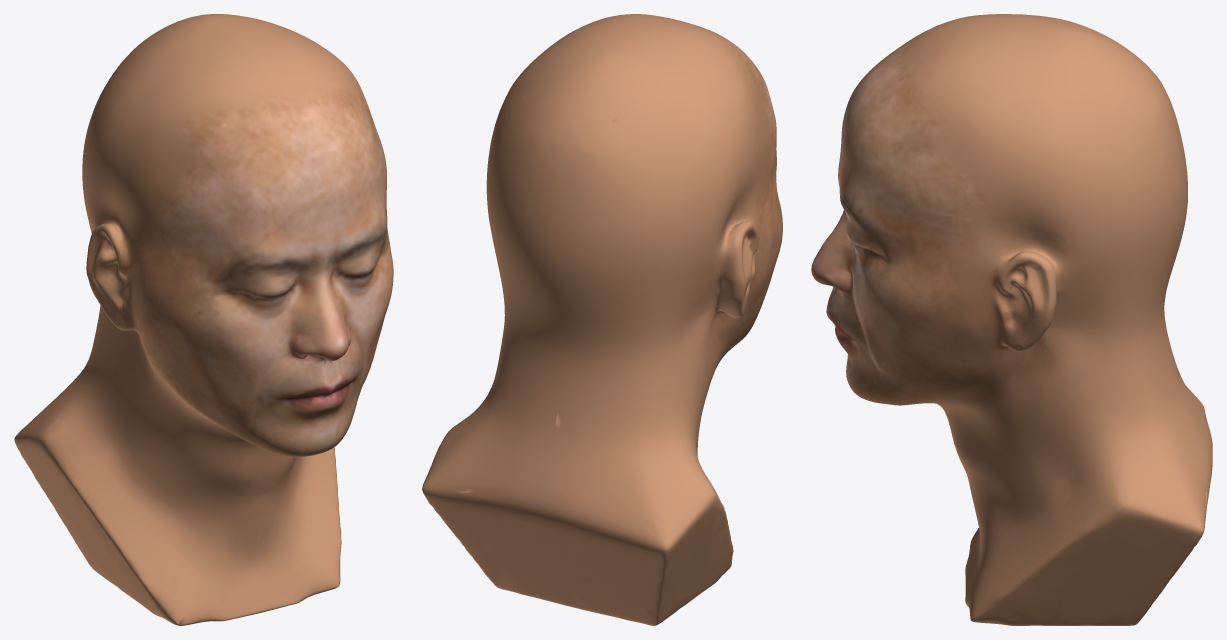
Rendered from small.gltf.
The picture shows the model from 3 angles, left to right: view 1: azimuth 30°, elevation 25°; view 2: azimuth 150°, elevation 25°; view 3: azimuth 270°, elevation 25°; orthographic projection. The views are drawn at different scales.
Parts seen in each view (by area): view 1: Group53757; view 2: Group53757; view 3: Group53757.
Part boxes in pixels (bbox=[...]): Group53757: bbox=[14, 14, 393, 625]; Group53757: bbox=[422, 14, 782, 625]; Group53757: bbox=[811, 14, 1212, 625].
Bounding box in the file's own units: 61.12 × 118 × 76.38.
Materials: 1 (1 with a texture image).
